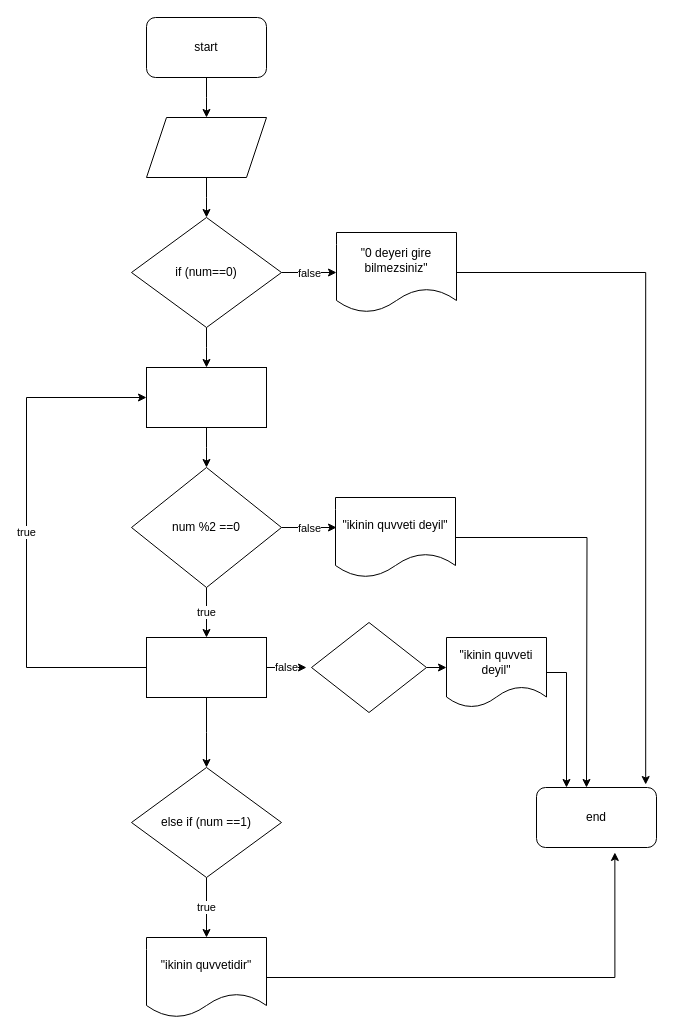
Image size: 674x1035. Some labels were removed from this diagram. The centre of each missing label's shape, as x and y in pixels:
"num" belongs at pixel 206 147.
"num %2 !=0" belongs at pixel 368 667.
"num /=2" belongs at pixel 206 667.
"while (num !=0)" belongs at pixel 206 397.
